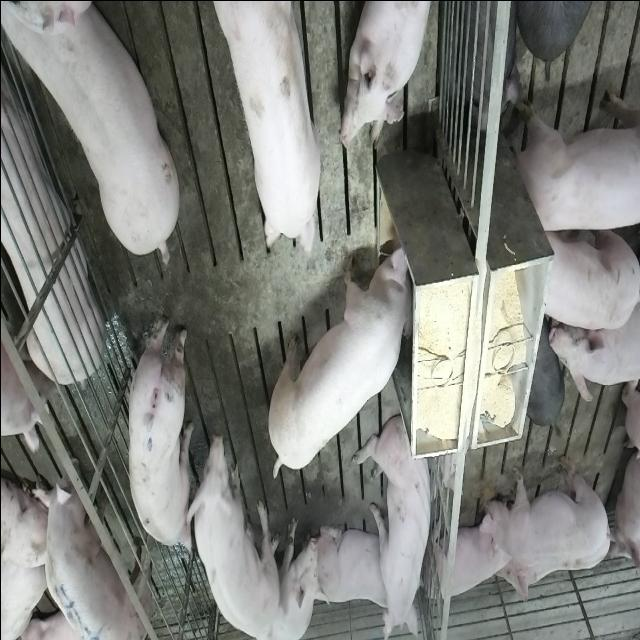Feeding: (270, 241, 420, 478)
Sitting: (354, 412, 436, 636), (261, 509, 321, 639)
Standing: (5, 4, 184, 268), (195, 0, 322, 253), (189, 396, 286, 636), (32, 449, 150, 640), (514, 84, 638, 236), (125, 313, 193, 555), (482, 450, 612, 561), (540, 224, 638, 330)
Sternal_lying: (0, 55, 100, 431), (339, 0, 434, 149), (430, 507, 508, 603), (314, 518, 394, 610)
